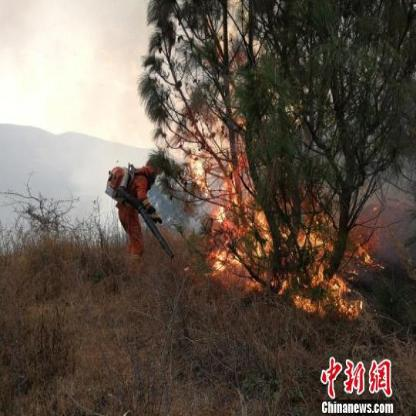fire: (180, 114, 377, 321)
other: (105, 146, 178, 270)
smoke: (95, 10, 136, 66)
